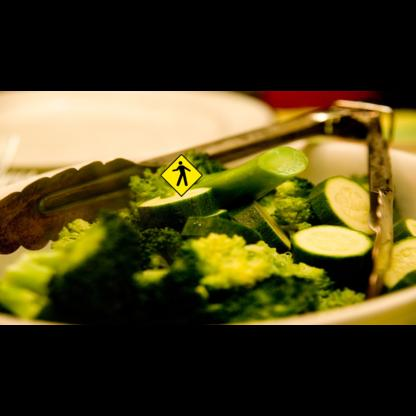A-32a: (160, 154, 203, 197)
